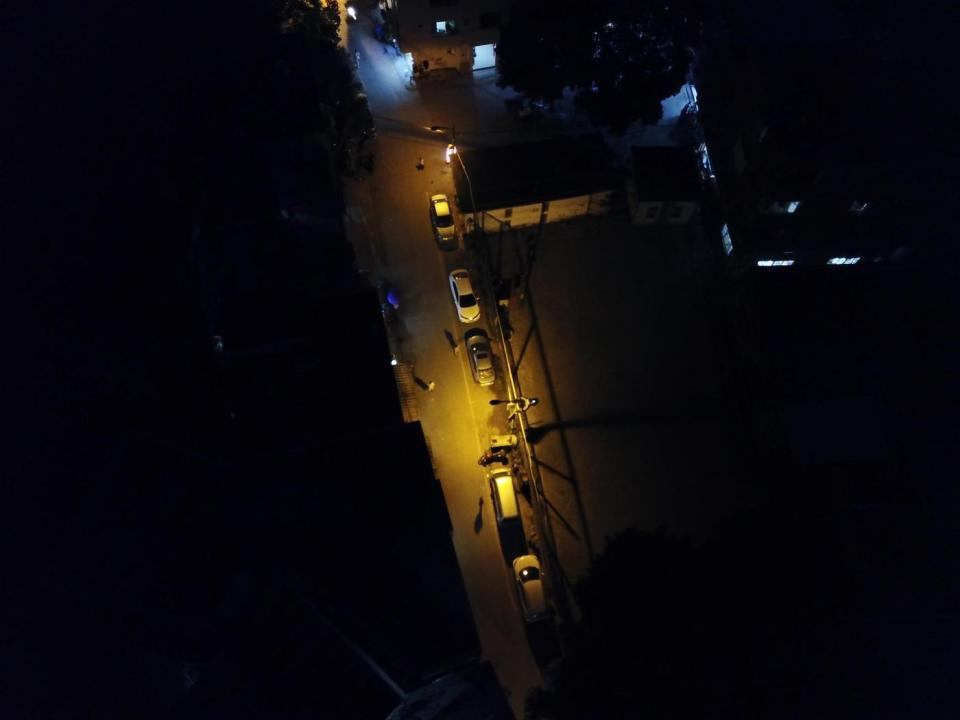car: (511, 553, 549, 622), (448, 269, 480, 323), (464, 335, 496, 386), (430, 193, 457, 245)
van: (490, 466, 521, 526)
